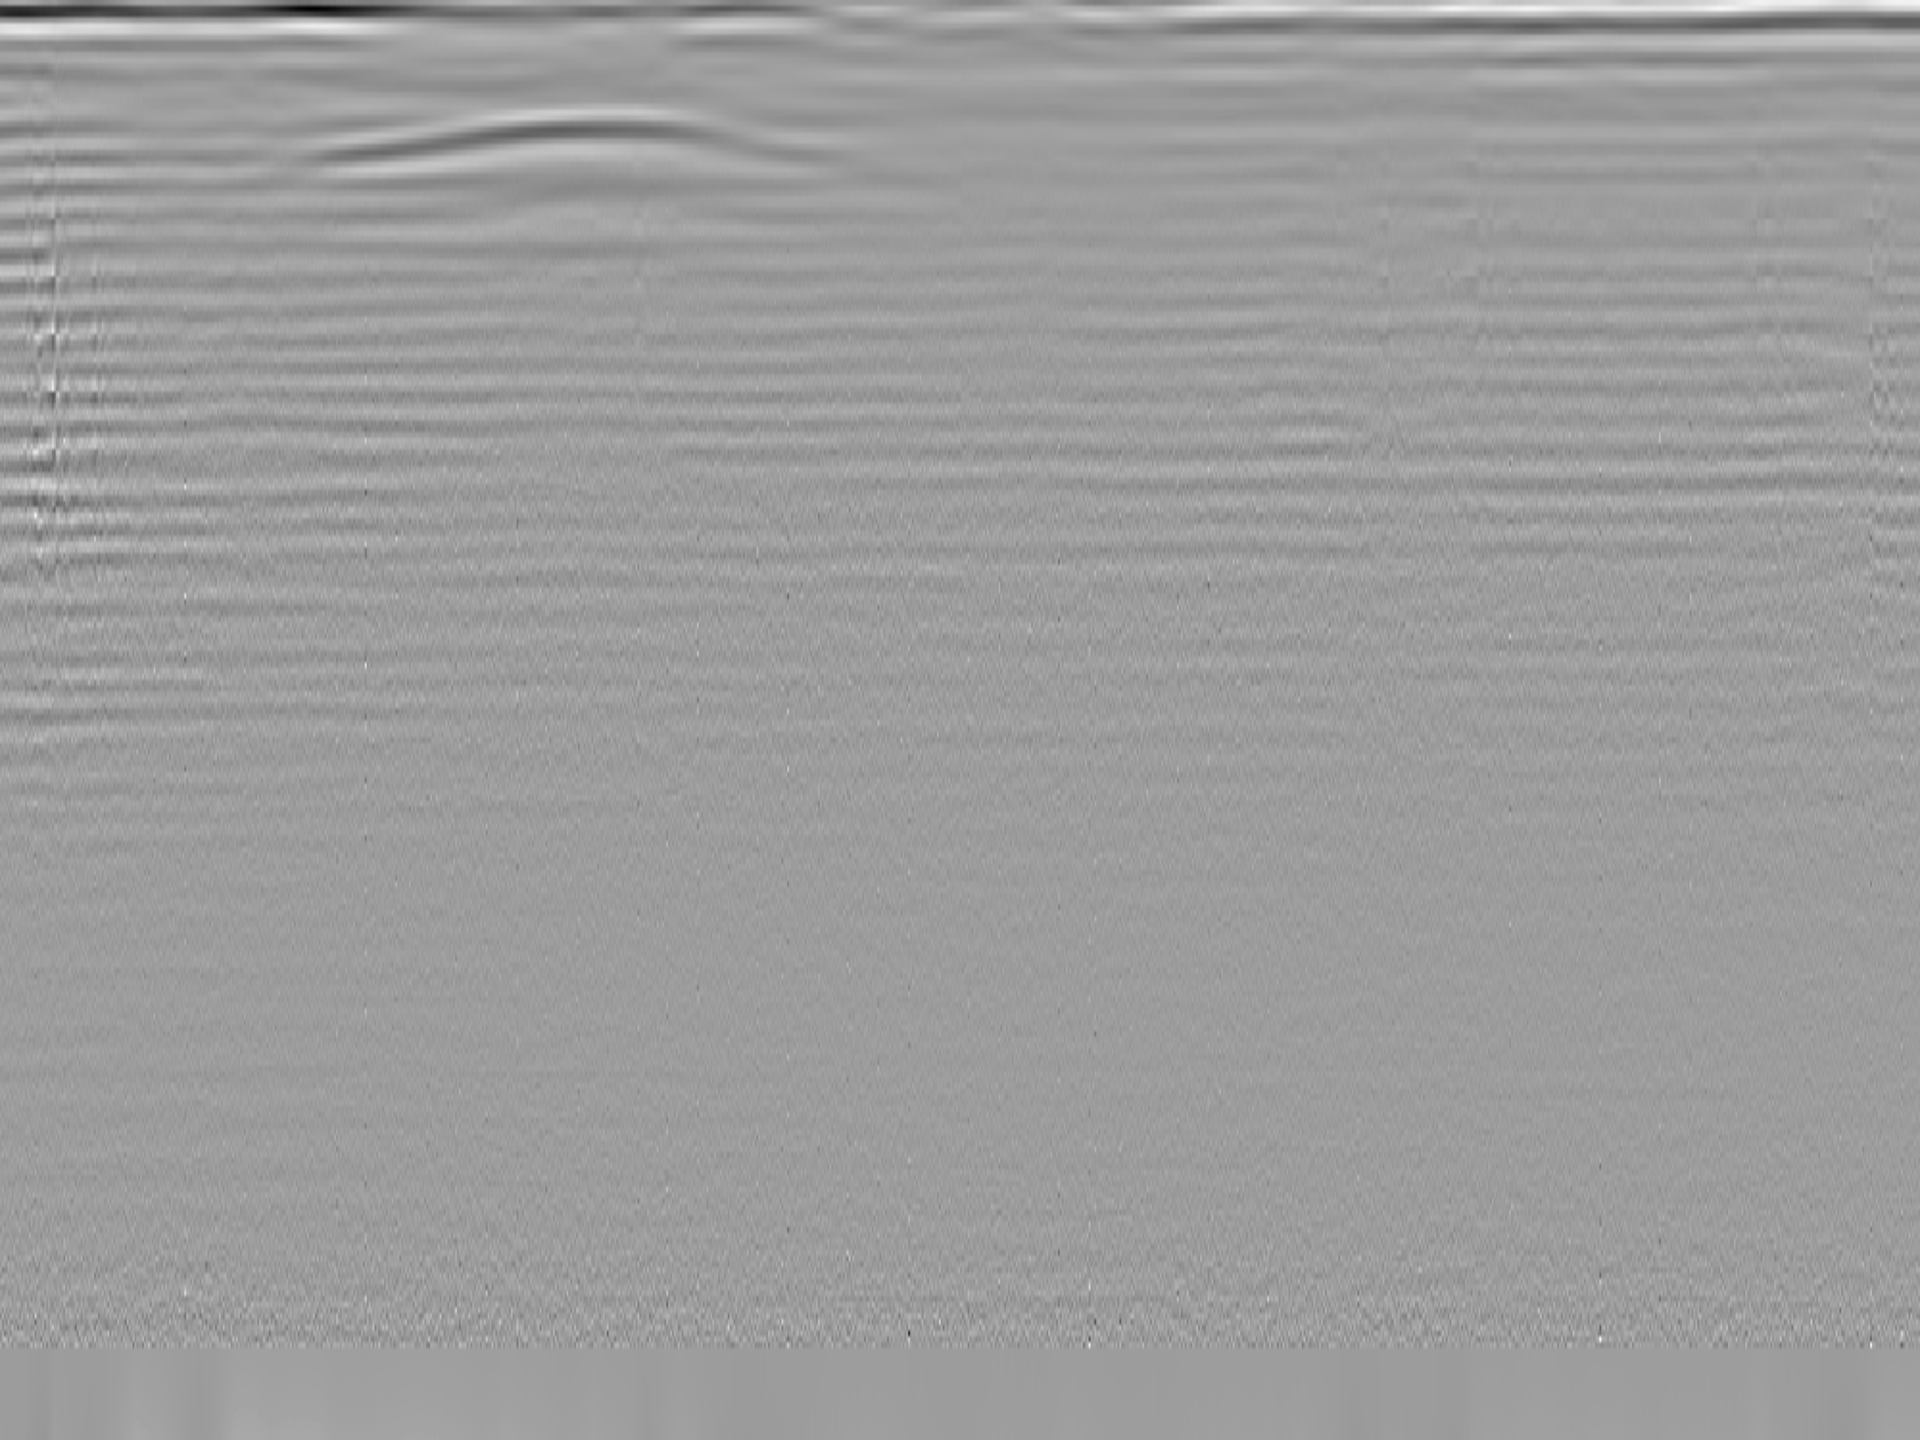Tunnel: (302, 106, 857, 169)
